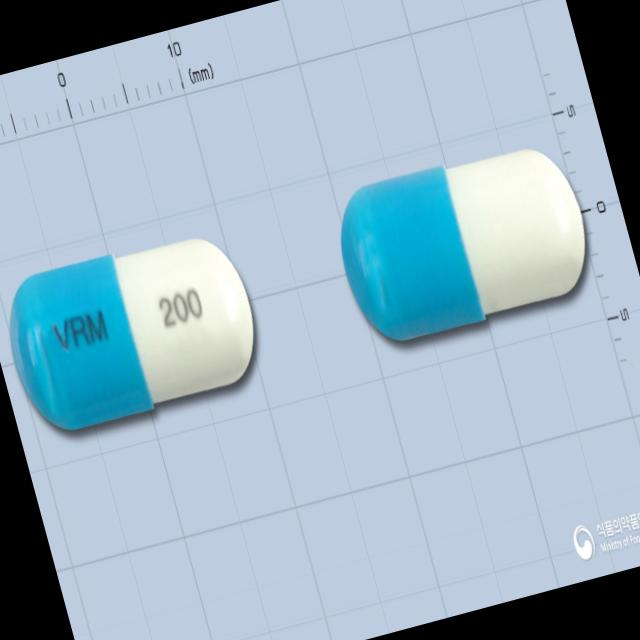Viramid Cap-200mg: (0, 218, 271, 444)
